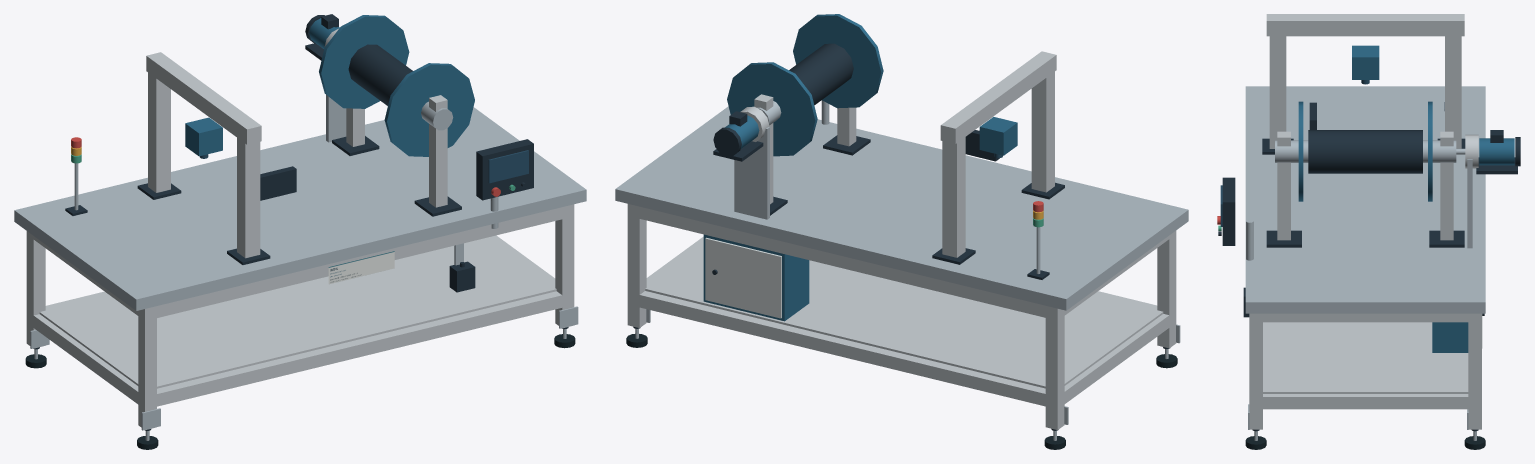
Rendered from yarn-winder-cell.glb.
3 views of the same model, side by side, from view 1: azimuth 30°, elevation 25°; view 2: azimuth 150°, elevation 25°; view 3: azimuth 270°, elevation 25° (orthographic).
Visible parts, largest first — view 1: ClosedMachineBed_28, LowerShelf_29, SlottedExtrusion_22, CoreFlange_62, SlottedExtrusion_23, CoreFlange_61, SlottedExtrusion_52, SlottedExtrusion_50, SlottedExtrusion_48, EmptyCore_63, SlottedExtrusion_8, SlottedExtrusion_24 (+12 smaller); view 2: ClosedMachineBed_28, LowerShelf_29, SlottedExtrusion_20, SlottedExtrusion_21, BackDoor_31, CoreFlange_61, CoreFlange_62, SlottedExtrusion_52, SlottedExtrusion_48, SlottedExtrusion_50, SlottedExtrusion_3, ReelGearMount_71 (+9 smaller); view 3: ClosedMachineBed_28, LowerShelf_29, EmptyCore_63, SlottedExtrusion_52, SlottedExtrusion_26, SlottedExtrusion_27, SlottedExtrusion_50, SlottedExtrusion_48, SlottedExtrusion_18, SlottedExtrusion_13, SlottedExtrusion_56, SlottedExtrusion_58 (+13 smaller).
Boxes of the visible parts, x1,y1,x2,y2 form: ClosedMachineBed_28: (14,107,586,310); LowerShelf_29: (39,236,556,388); SlottedExtrusion_22: (152,291,568,406); CoreFlange_62: (384,63,474,156); SlottedExtrusion_23: (151,206,568,318); CoreFlange_61: (319,15,409,108); SlottedExtrusion_52: (146,52,261,144); SlottedExtrusion_50: (237,130,260,258); SlottedExtrusion_48: (148,72,170,192); EmptyCore_63: (348,44,412,105); SlottedExtrusion_8: (138,306,156,429); SlottedExtrusion_24: (33,314,140,404); ClosedMachineBed_28: (615,106,1188,310); LowerShelf_29: (645,240,1163,388); SlottedExtrusion_20: (633,291,1051,407); SlottedExtrusion_21: (636,206,1051,318); BackDoor_31: (705,237,781,318); CoreFlange_61: (727,62,817,156); CoreFlange_62: (793,14,883,108); SlottedExtrusion_52: (940,51,1056,143); SlottedExtrusion_48: (942,129,965,257); SlottedExtrusion_50: (1031,64,1054,192); SlottedExtrusion_3: (1045,306,1064,429); ReelGearMount_71: (734,127,769,219); ClosedMachineBed_28: (1245,86,1485,313); LowerShelf_29: (1263,322,1468,393); EmptyCore_63: (1308,130,1422,173); SlottedExtrusion_52: (1266,14,1464,36); SlottedExtrusion_26: (1256,394,1474,409); SlottedExtrusion_27: (1256,313,1474,322); SlottedExtrusion_50: (1269,28,1286,148); SlottedExtrusion_48: (1445,28,1461,148); SlottedExtrusion_18: (1249,313,1262,429); SlottedExtrusion_13: (1468,313,1481,429); SlottedExtrusion_56: (1440,131,1453,240); SlottedExtrusion_58: (1277,131,1290,240).
Bounding box in the file's own units: 2.45 × 1.51 × 1.45.
11 materials, 1 textured.
